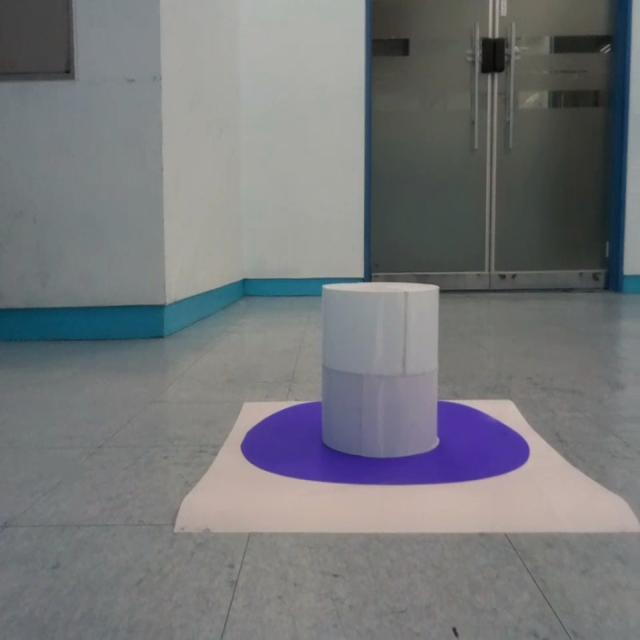cylinder: (321, 280, 440, 458)
